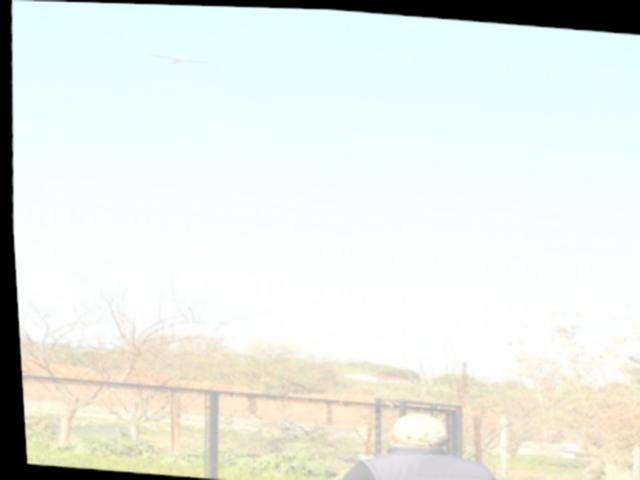iha: (149, 52, 208, 65)
